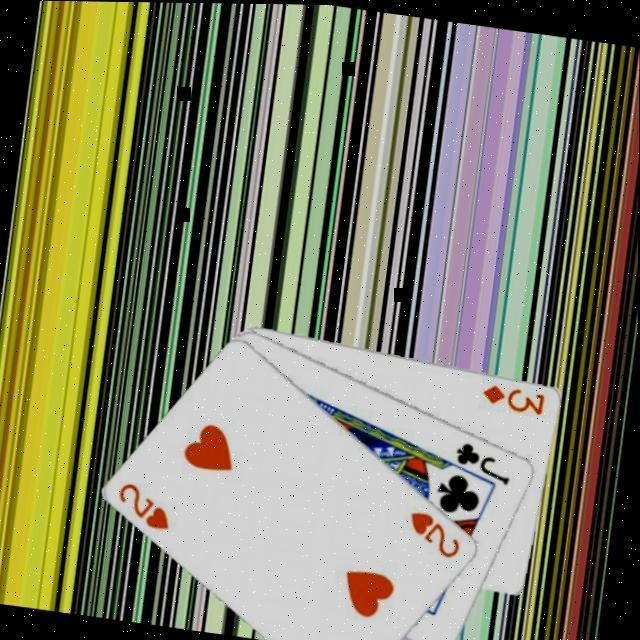2H: (110, 474, 176, 531), (402, 503, 466, 559)
3D: (476, 376, 547, 414)
JC: (449, 434, 516, 484)
